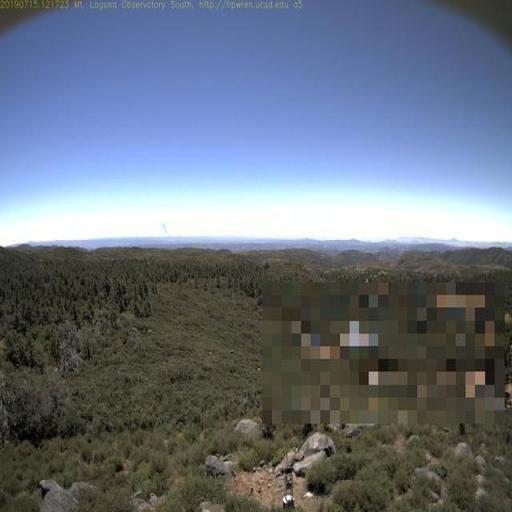smoke: (154, 218, 170, 240)
